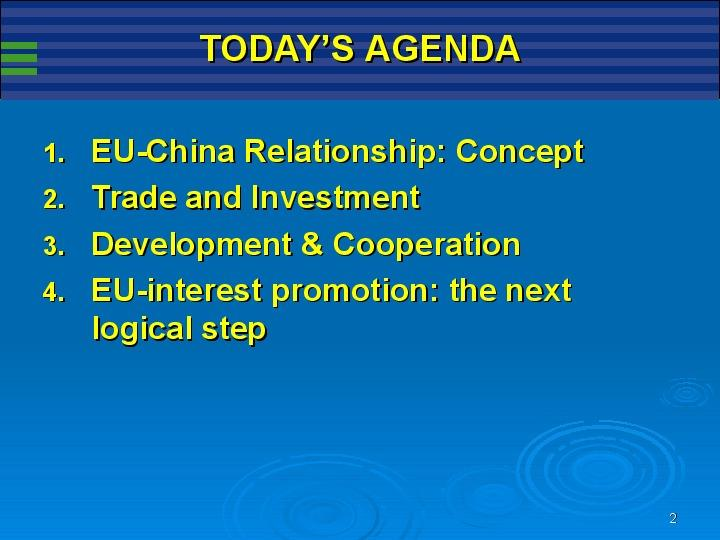paragraph: (30, 119, 613, 363)
title: (192, 22, 528, 75)
